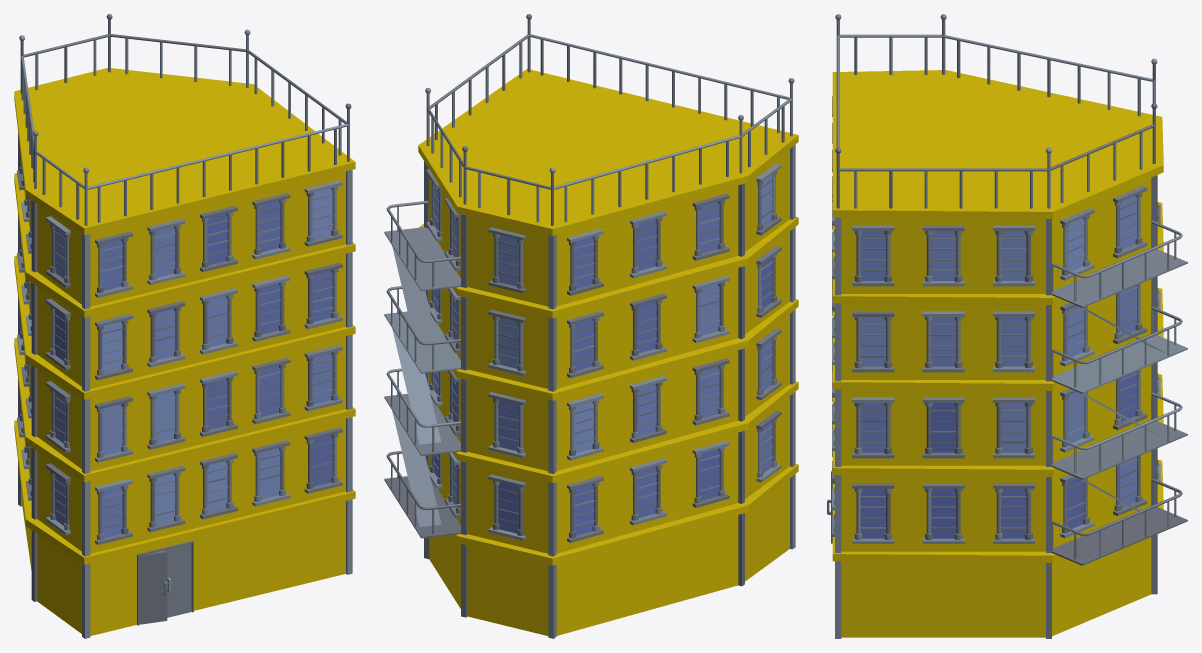
File: Building Procedural.010.fbx
3 views of the same model, side by side, from view 1: azimuth 30°, elevation 25°; view 2: azimuth 150°, elevation 25°; view 3: azimuth 270°, elevation 25° (orthographic). The views are drawn at different scales.
Parts seen in each view (by area): view 1: Building Procedural.010; view 2: Building Procedural.010; view 3: Building Procedural.010.
Part boxes in pixels (x1=…): Building Procedural.010: x1=14, y1=14, x2=355, y2=638; Building Procedural.010: x1=384, y1=14, x2=798, y2=638; Building Procedural.010: x1=827, y1=14, x2=1187, y2=638.
Bounding box in the file's own units: 1139 × 1710 × 1142.
